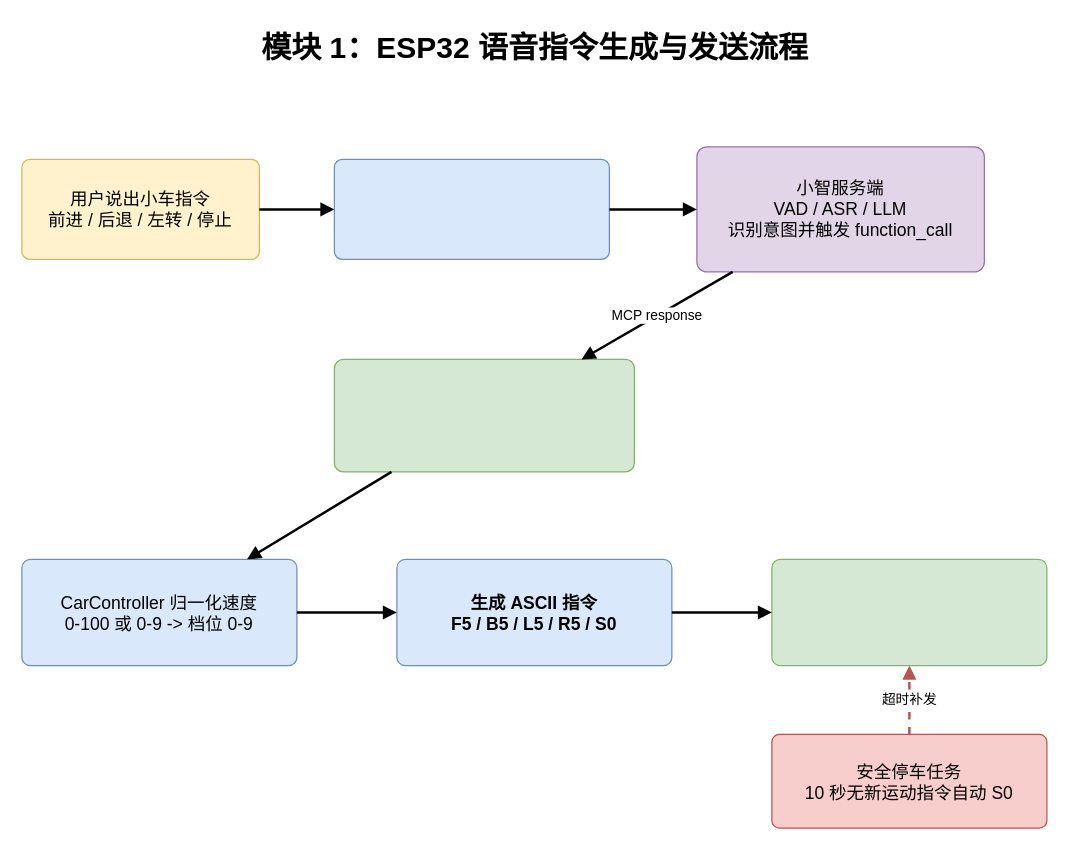
The diagram is 1069 pixels wide and 850 high, and some of its shapes have lost their labels. The centre of each missing label's shape, as x and y in pixels:
"ESP32 收到 MCP 工具调用 self.car.forward / stop / left / right" goes at pixel 483 415.
"ESP32-S3 小智设备 采集音频并通过 WebSocket 上传" goes at pixel 471 208.
"Jdy34Ble::SendData UART1 写入 JDY34" goes at pixel 909 612.
